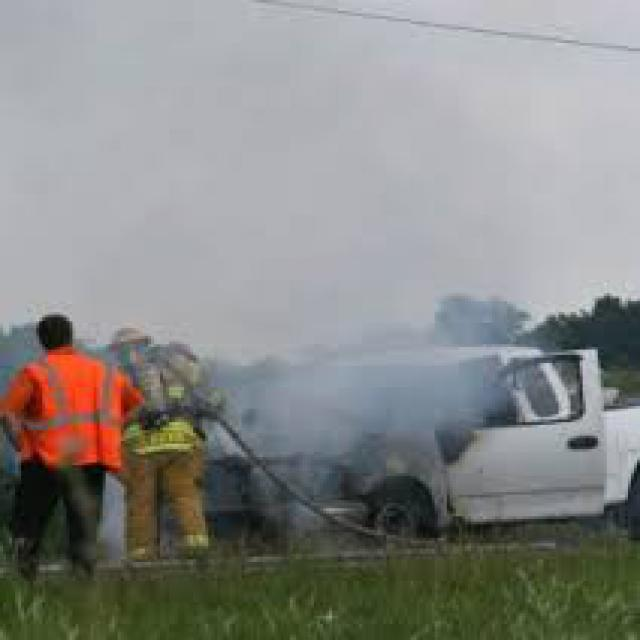smoke: (256, 339, 459, 476)
